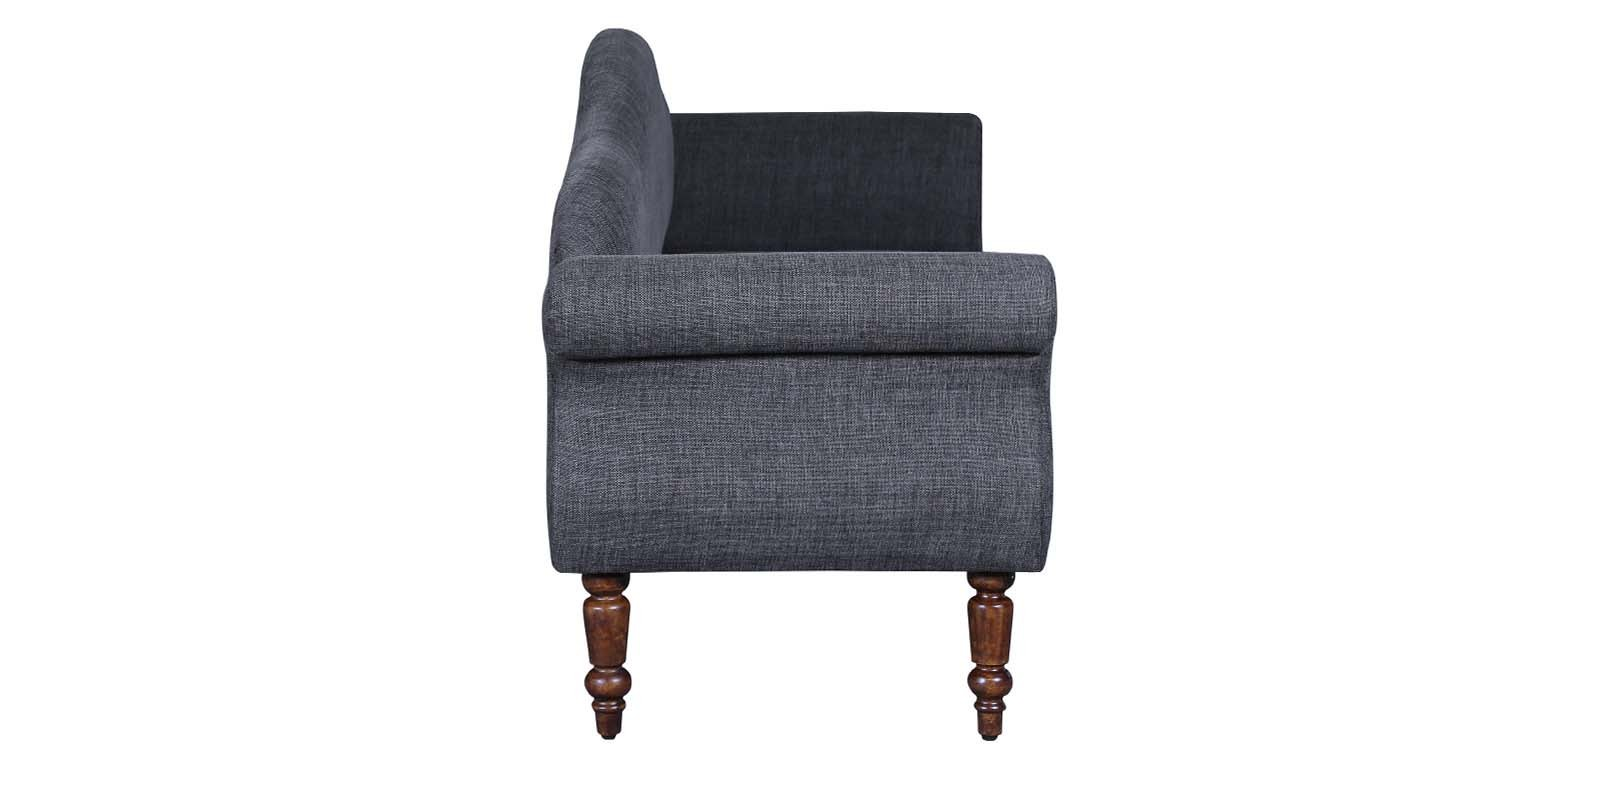Harleston Three Seater Sofa in Provincial Teak Finish by Amberville: (532, 22, 1072, 768)
